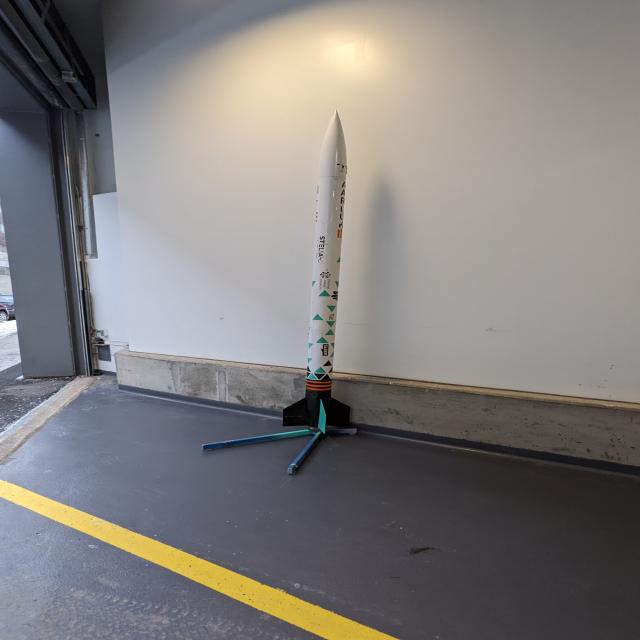Rocket: (282, 110, 351, 434)
